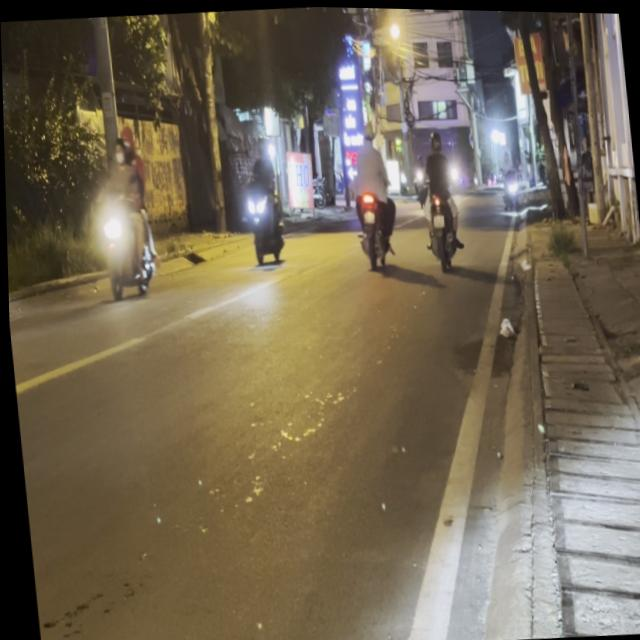helmet: (115, 123, 134, 155), (110, 135, 126, 166)
licenseplate: (89, 122, 161, 302)
